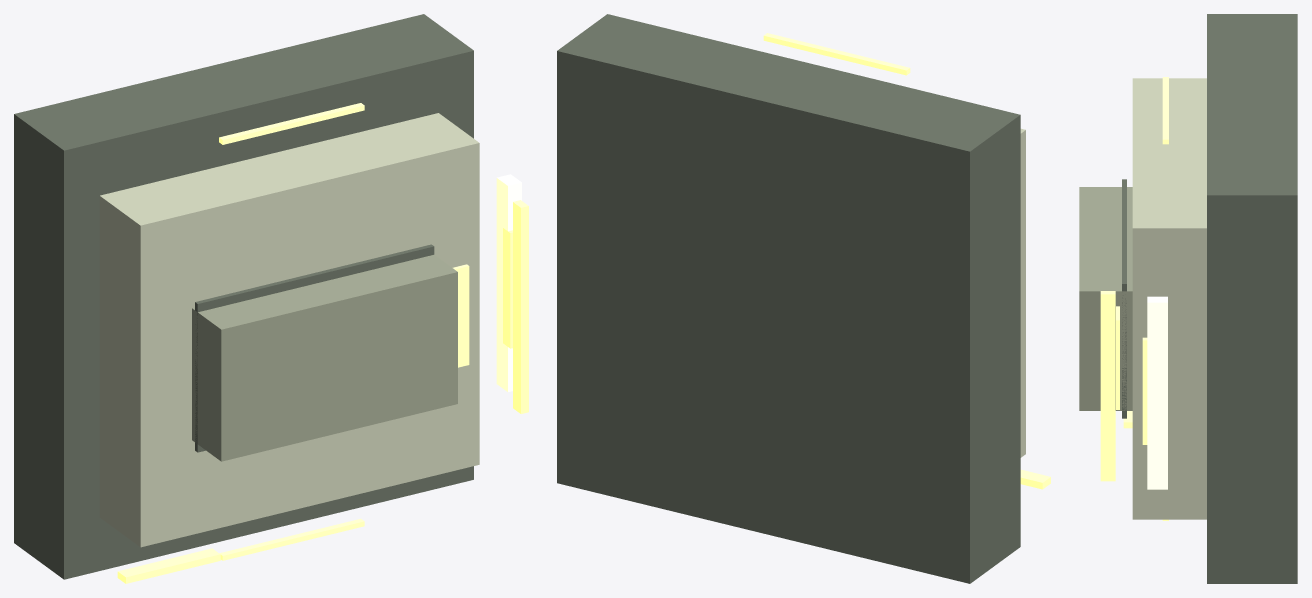
Rendered from chassis.glb.
The picture shows the model from 3 angles, left to right: view 1: azimuth 30°, elevation 25°; view 2: azimuth 150°, elevation 25°; view 3: azimuth 270°, elevation 25°; orthographic projection. The views are drawn at different scales.
Visible parts, largest first — view 1: armored_deck, lower_frame, center_spine, ro5_front_status, ro5_service_glass, status_bar, ro5_side_status, ro5_side_trim_left, ro5_side_trim_right, ro5_service_status, ro5_front_badge; view 2: lower_frame, armored_deck, ro5_side_trim_left; view 3: lower_frame, armored_deck, center_spine, status_bar, ro5_front_status, ro5_service_glass, ro5_front_badge, ro5_side_trim_left, ro5_service_status.
Part boxes in pixels (<box>): armored_deck: <box>99,113,479,547</box>; lower_frame: <box>14,14,473,579</box>; center_spine: <box>192,254,457,461</box>; ro5_front_status: <box>513,200,528,413</box>; ro5_service_glass: <box>195,244,434,452</box>; status_bar: <box>496,174,521,391</box>; ro5_side_status: <box>117,548,220,583</box>; ro5_side_trim_left: <box>219,103,364,144</box>; ro5_side_trim_right: <box>219,518,364,560</box>; ro5_service_status: <box>453,264,469,367</box>; ro5_front_badge: <box>503,228,512,348</box>; lower_frame: <box>557,14,1020,583</box>; armored_deck: <box>1020,128,1025,457</box>; ro5_side_trim_left: <box>763,33,910,75</box>; lower_frame: <box>1207,14,1297,583</box>; armored_deck: <box>1132,78,1206,519</box>; center_spine: <box>1079,187,1132,410</box>; status_bar: <box>1147,296,1167,489</box>; ro5_front_status: <box>1100,291,1115,481</box>; ro5_service_glass: <box>1122,179,1126,418</box>; ro5_front_badge: <box>1142,337,1147,444</box>; ro5_side_trim_left: <box>1162,77,1168,144</box>; ro5_service_status: <box>1116,306,1119,409</box>.
Size of the model in its own units: 0.539 by 0.52 by 0.265.
